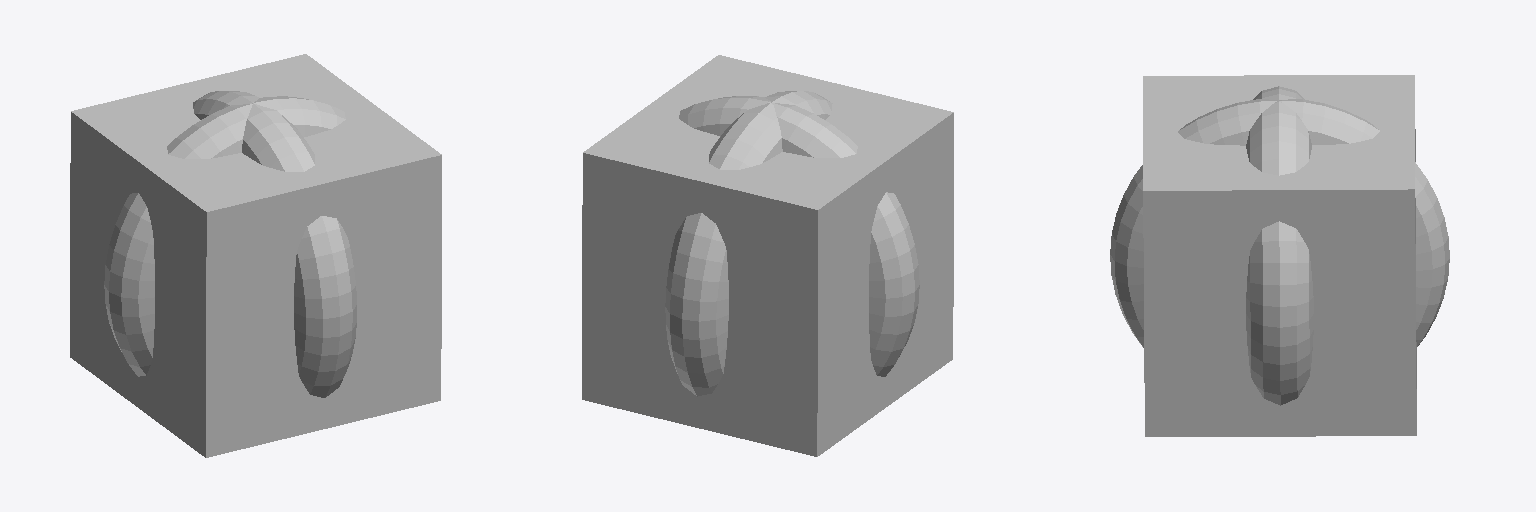
Rendered from silence_beta.obj.
The picture shows the model from 3 angles: view 1: azimuth 30°, elevation 25°; view 2: azimuth 150°, elevation 25°; view 3: azimuth 270°, elevation 25°; orthographic projection.
Parts seen in each view (by area): view 1: Cube_Cube.001; view 2: Cube_Cube.001; view 3: Cube_Cube.001.
Boxes of the visible parts, x1,y1,x2,y2 form: Cube_Cube.001: [70, 54, 441, 457]; Cube_Cube.001: [582, 55, 953, 456]; Cube_Cube.001: [1110, 75, 1449, 436].
Bounding box in the file's own units: 2.5 × 2.5 × 2.5.